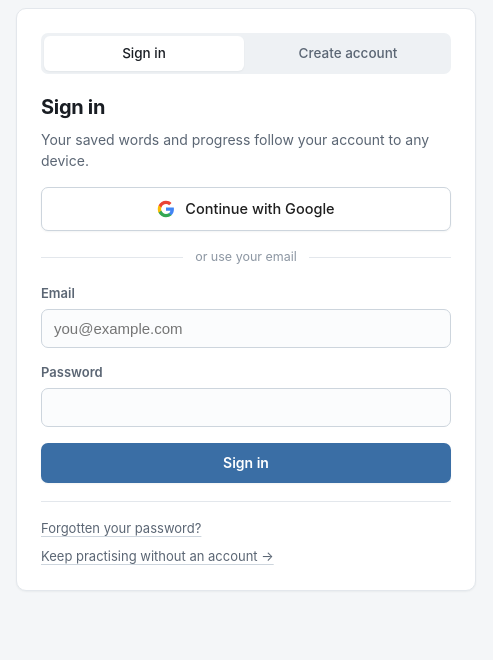
Scenario: AccountPage — signed out › says to check the inbox when confirmation is required
The width and height of the screenshot is (493, 660).
Click the tab "Create account".
click(348, 53)  # box left=248, top=36, right=448, bottom=71
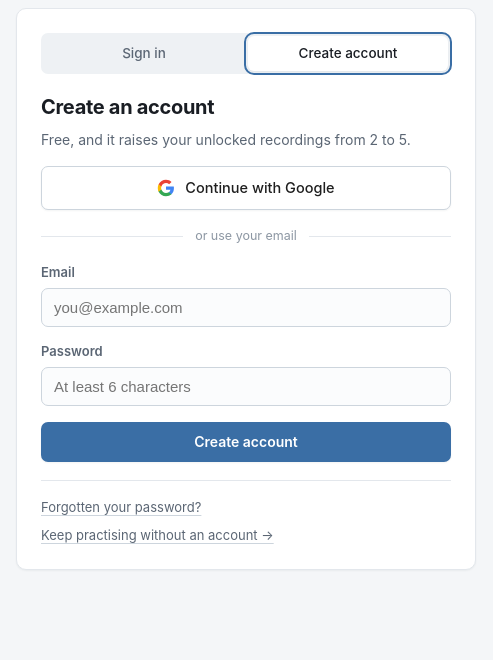
Type "new@example.com" into the field labelled "Email".
click(246, 307); type("new@example.com")  # box left=41, top=288, right=451, bottom=327
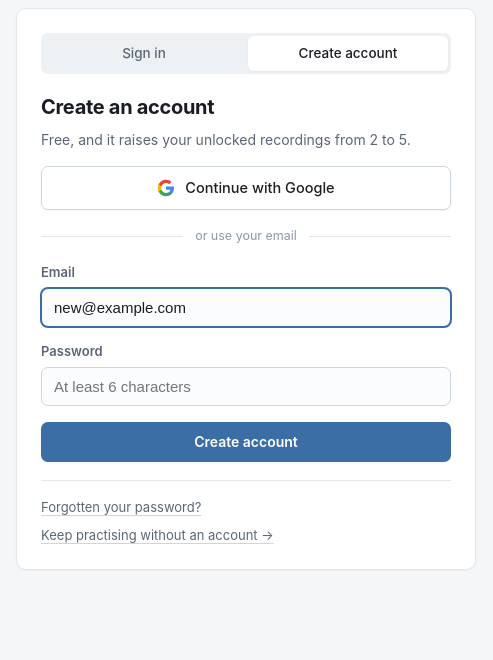
Type "a-long-password" into the password field labelled "Password".
click(246, 386); type("a-long-password")  # box left=41, top=367, right=451, bottom=406
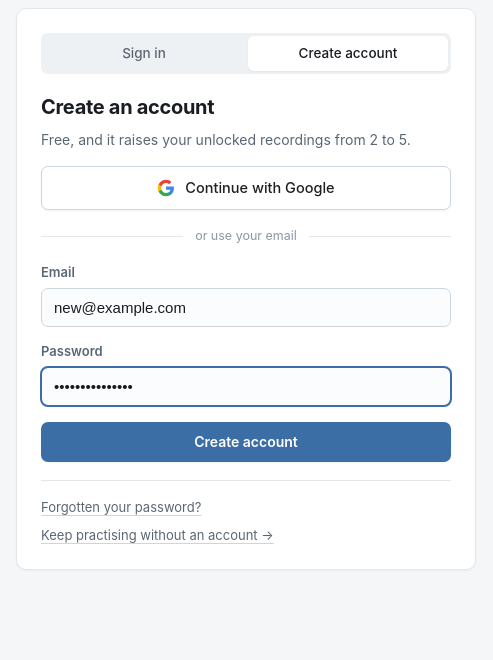
Click the button "Create account".
click(246, 442)  # box left=41, top=422, right=451, bottom=462
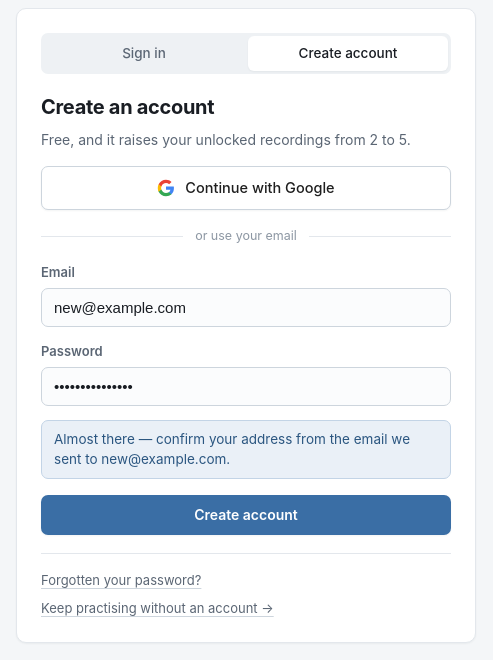
Expected: the text "confirm your address from the email" is shown, left=54, top=431, right=410, bottom=467
